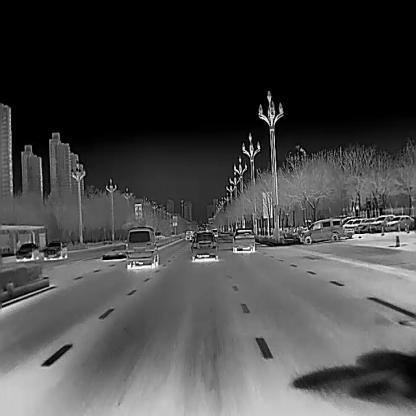car: (126, 226, 158, 268), (300, 218, 343, 244), (190, 232, 218, 260), (232, 227, 256, 252), (385, 214, 414, 231), (369, 214, 395, 232), (43, 240, 67, 258), (15, 242, 38, 259), (343, 217, 364, 231), (356, 218, 372, 230), (184, 230, 192, 239), (211, 228, 217, 236)
